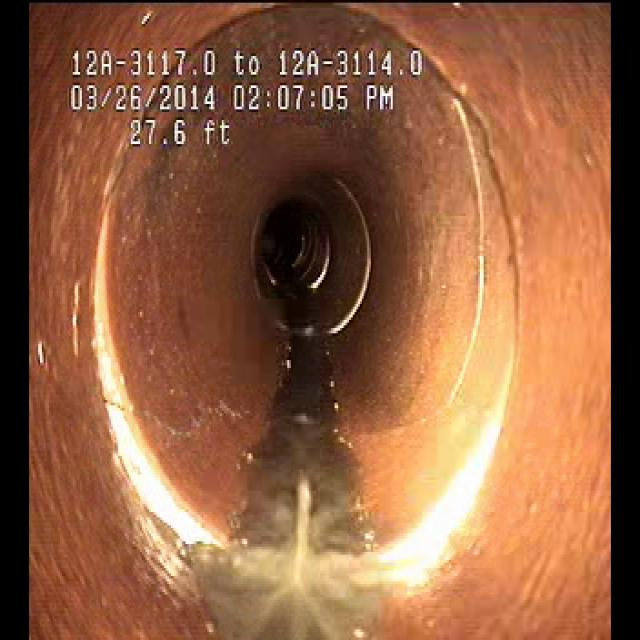Crack: (128, 378, 242, 467)
